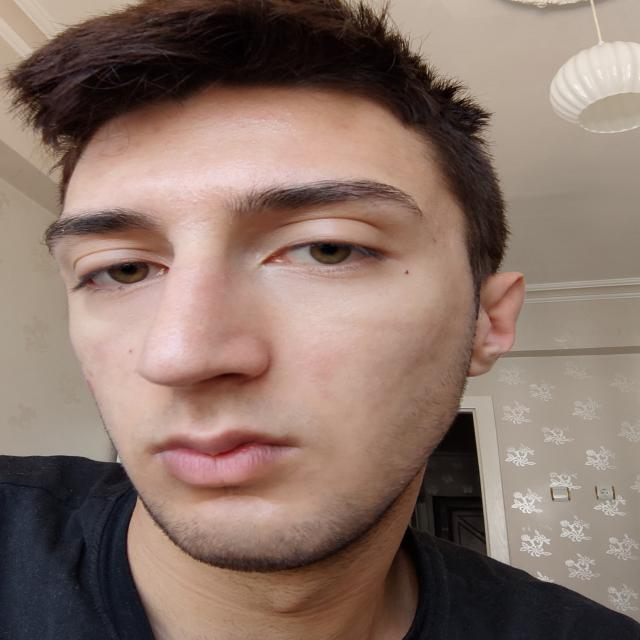Acne: (254, 112, 292, 128), (430, 222, 444, 249), (89, 344, 106, 364), (131, 142, 144, 150), (86, 378, 95, 389), (337, 123, 351, 130), (115, 145, 127, 153)
Wrinkles: (171, 119, 246, 132)
